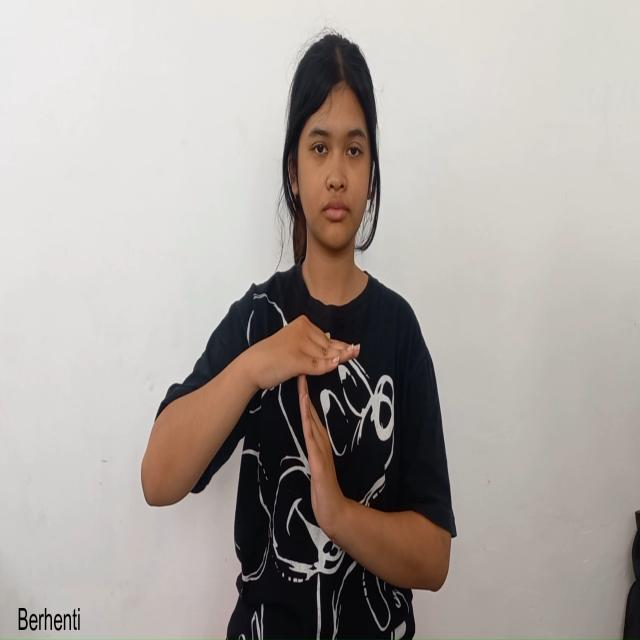Berhenti -BISINDO-: (248, 303, 374, 567)
